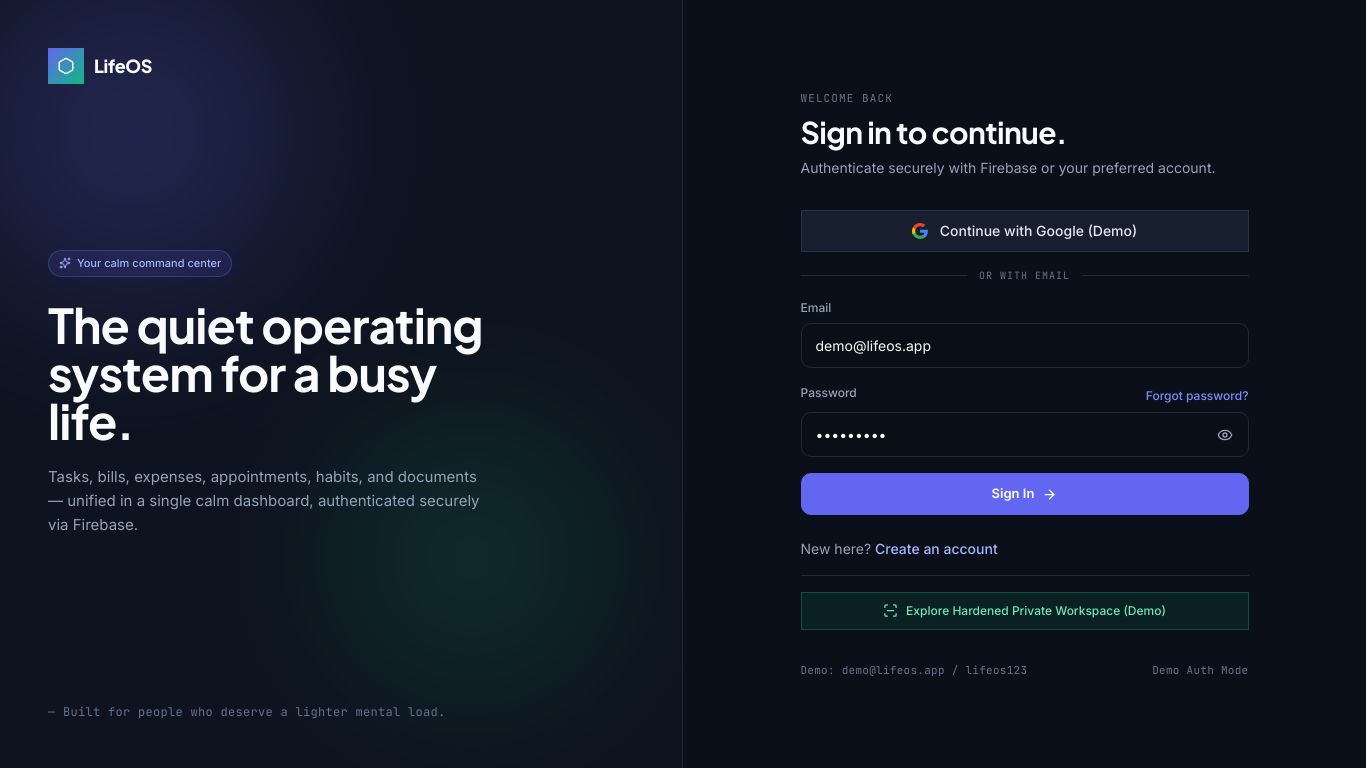
Scenario: Login Page › displays error message when login fails
Click the button with test id "login-submit-button": (1024, 494) [800,473,1248,515]
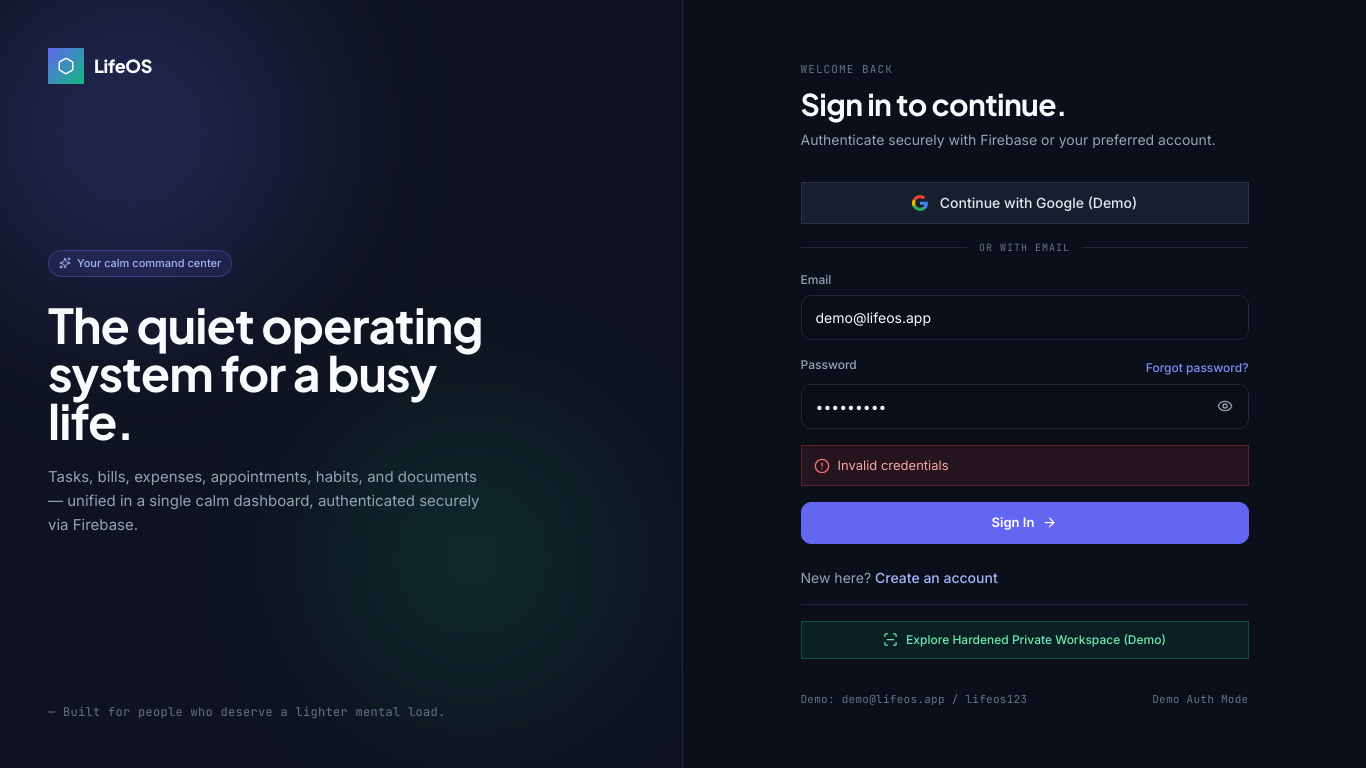
Expected: the element with test id "login-error" is shown, [800,444,1248,486]
Expected: the element with test id "login-error" reads "Invalid credentials", [838,456,949,472]
